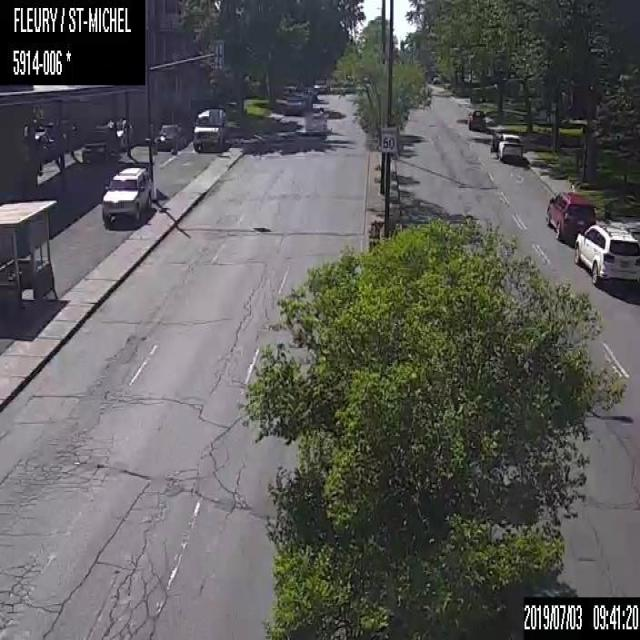vehicle: (574, 224, 639, 283), (101, 166, 150, 225), (546, 191, 595, 242), (192, 108, 226, 152), (81, 125, 117, 160), (105, 117, 134, 148), (153, 122, 181, 149), (497, 133, 522, 160), (304, 112, 326, 133), (283, 93, 305, 114), (468, 108, 486, 129)
